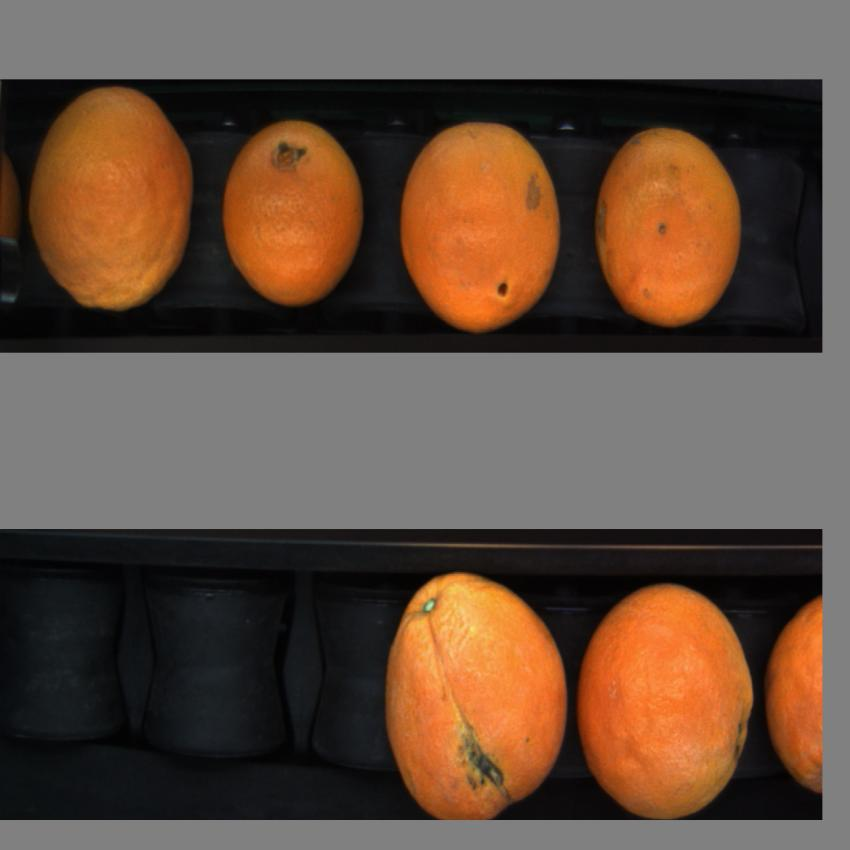Buen estado: (578, 572, 755, 815), (26, 82, 196, 317), (393, 117, 567, 338), (592, 116, 747, 331), (222, 113, 364, 310)
Mal estado: (380, 562, 575, 825), (765, 583, 823, 799)
